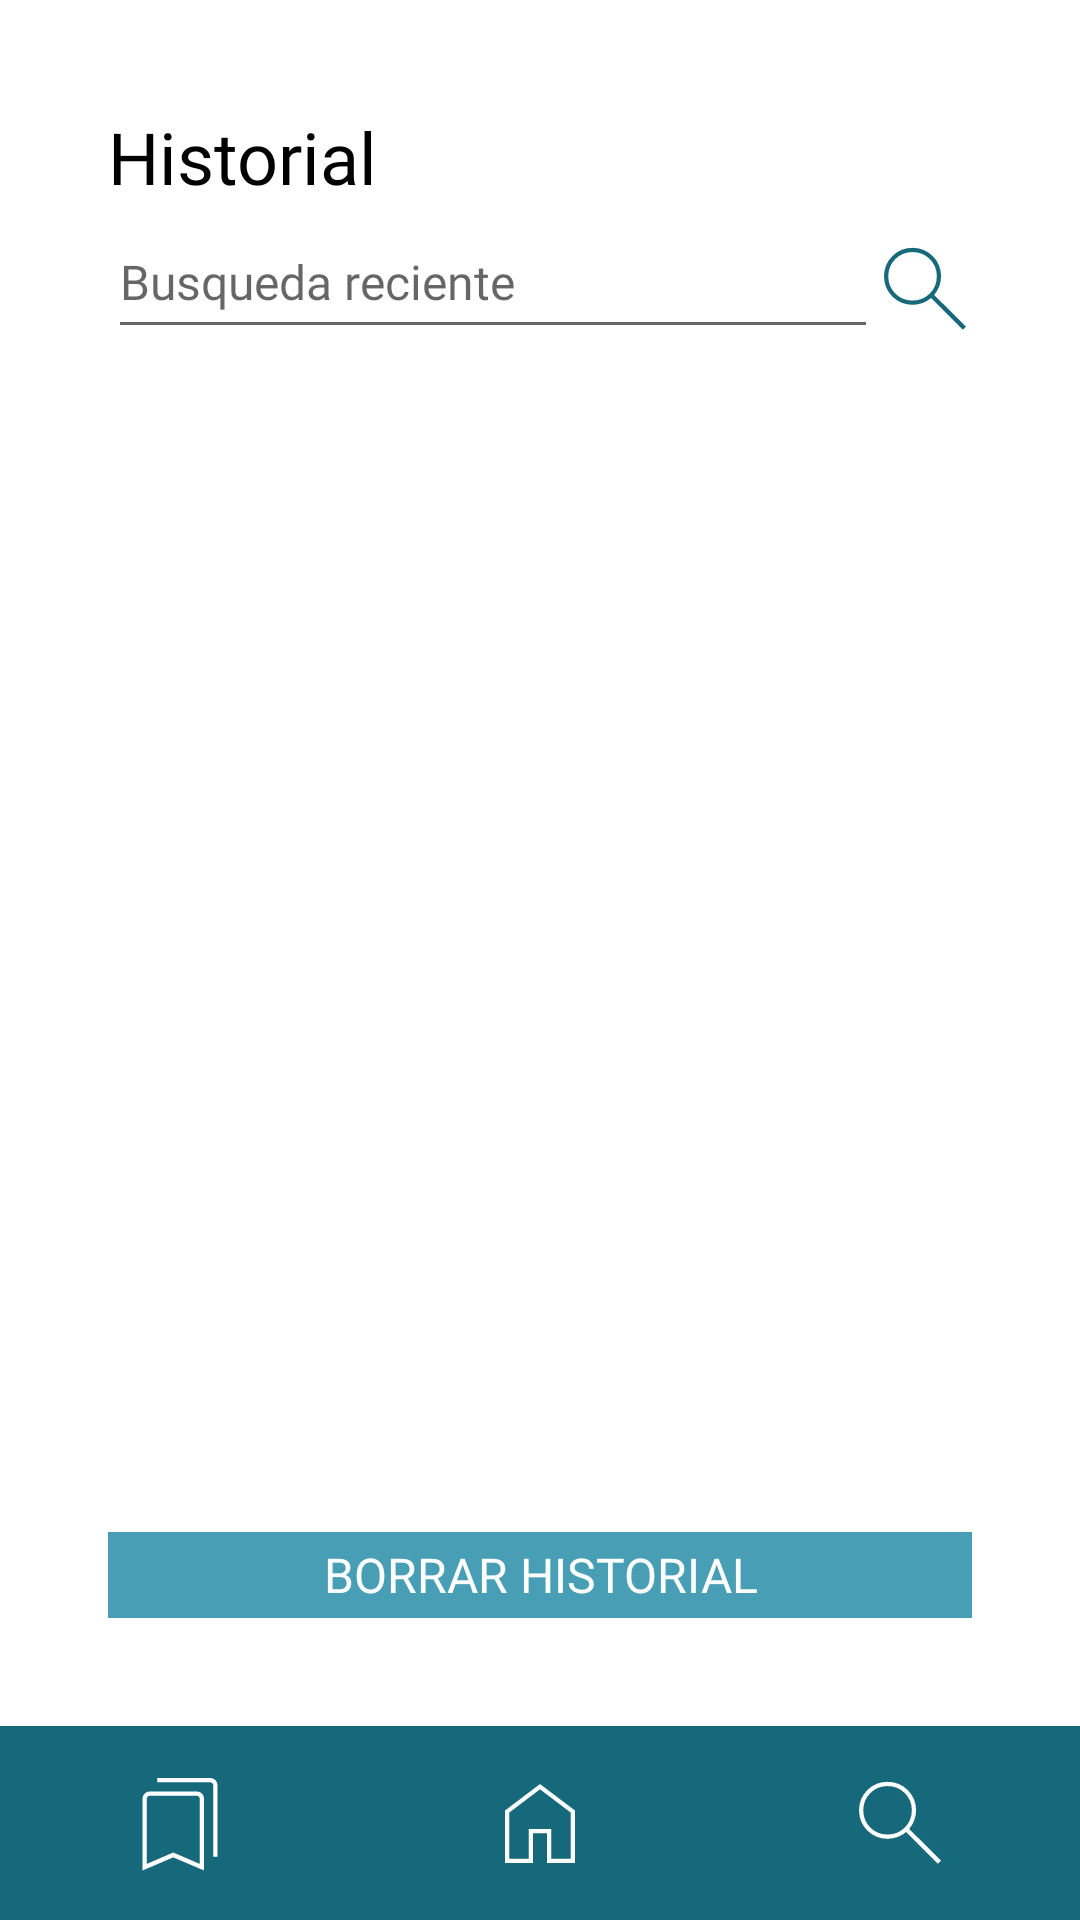

Icon click points for this 1080w x 1920h phone screenshot, format point (x, y):
bookmarks: point (180, 1824)
home: point (540, 1823)
search: point (925, 288), point (900, 1822)
